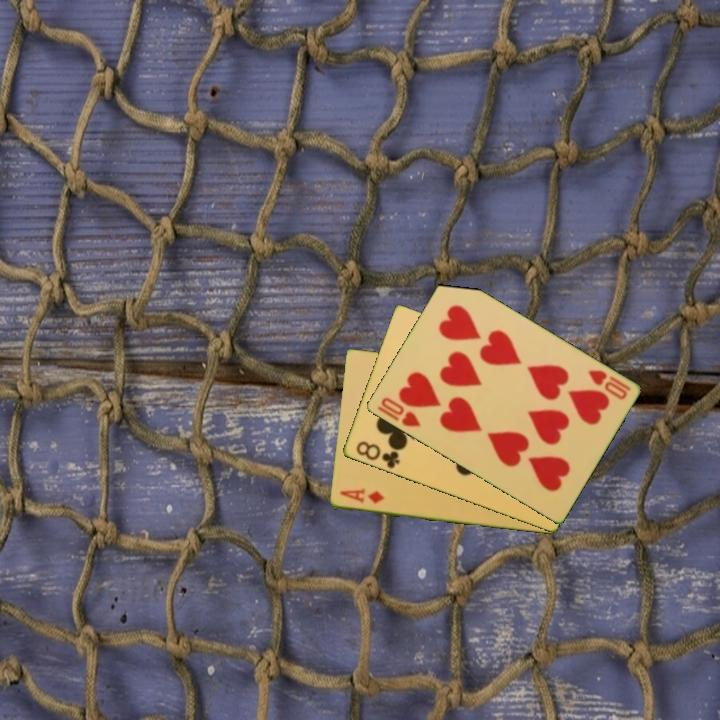10h: (584, 366, 633, 403), (374, 394, 423, 430)
8c: (352, 438, 402, 472)
Ad: (336, 486, 387, 507)
